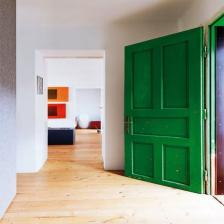green: (125, 28, 204, 194)
